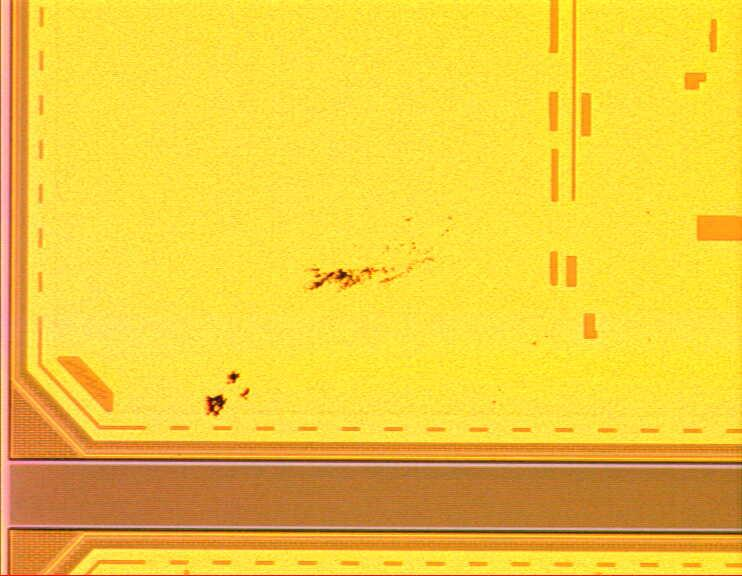PO CONTAMINATION: (199, 202, 558, 425)
